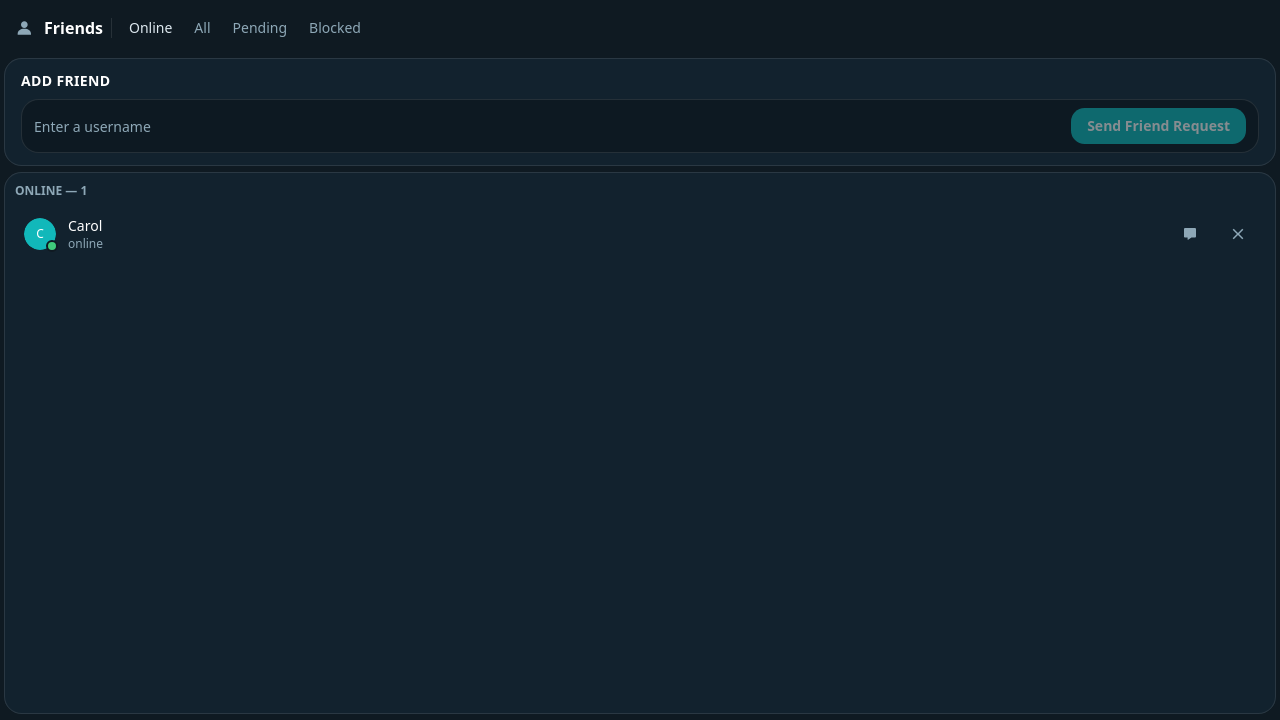
Test: FriendsList with friends data › shows accept button for pending requests
Click the tab "Pending": (260, 28) 224,10 -> 296,46
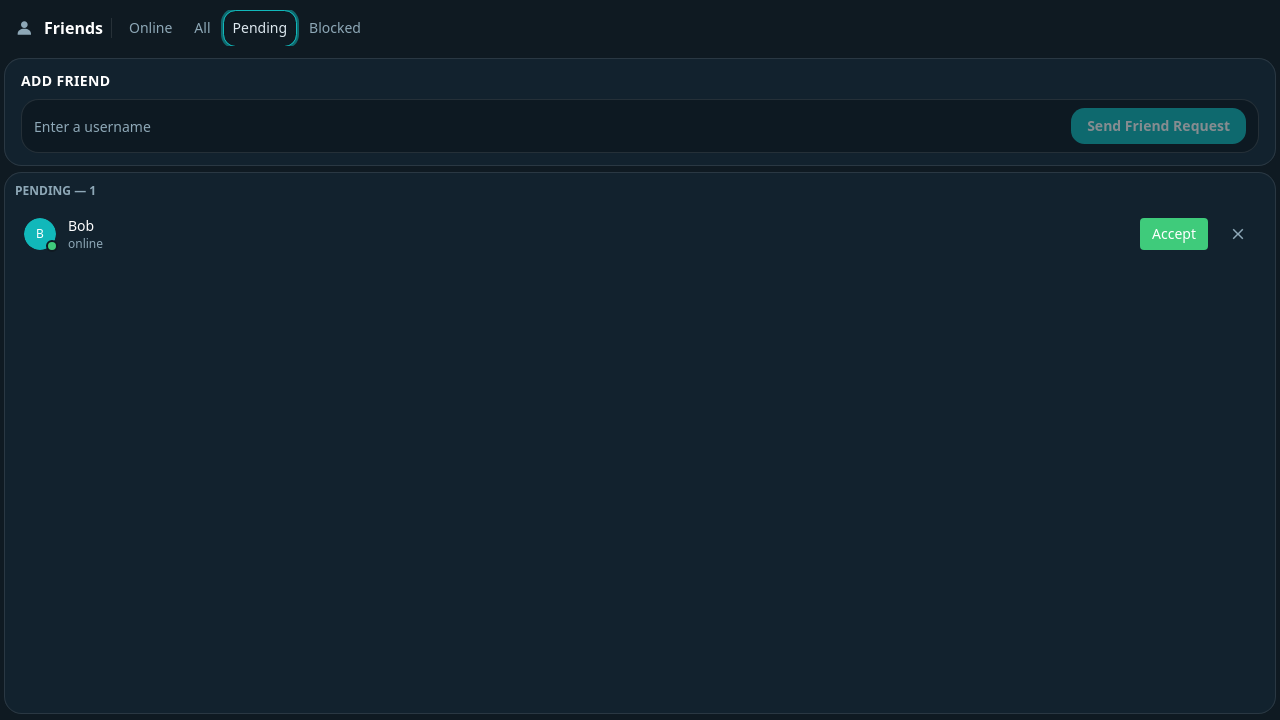
Result: the button "Accept" is shown at 1140,218 -> 1208,250
